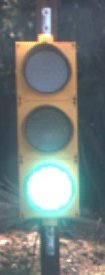Green: (5, 18, 89, 246)
